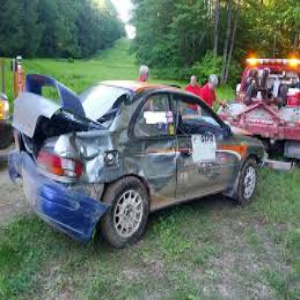bumper: (33, 176, 111, 244)
